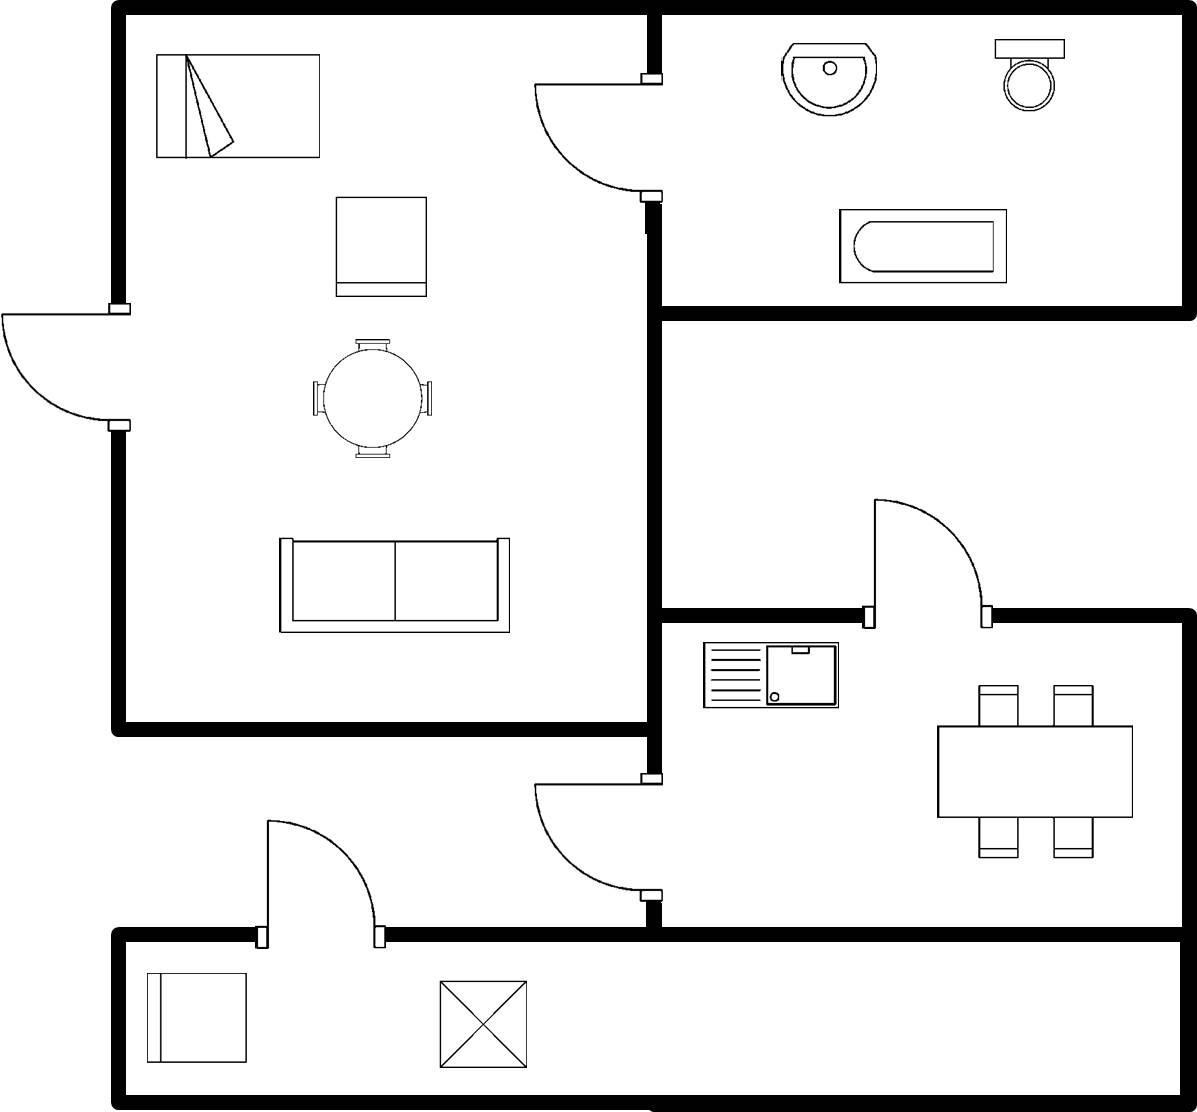bed: (147, 48, 329, 166)
coffee_table: (429, 973, 535, 1074)
dining_table: (927, 677, 1142, 867)
large_sink: (985, 32, 1072, 115)
large_sofa: (269, 528, 518, 644)
round_table: (300, 328, 441, 466)
sink: (695, 633, 846, 717)
small_sink: (770, 35, 887, 125)
small_sofa: (138, 965, 256, 1072), (328, 188, 432, 307)
tub: (829, 200, 1014, 295)
